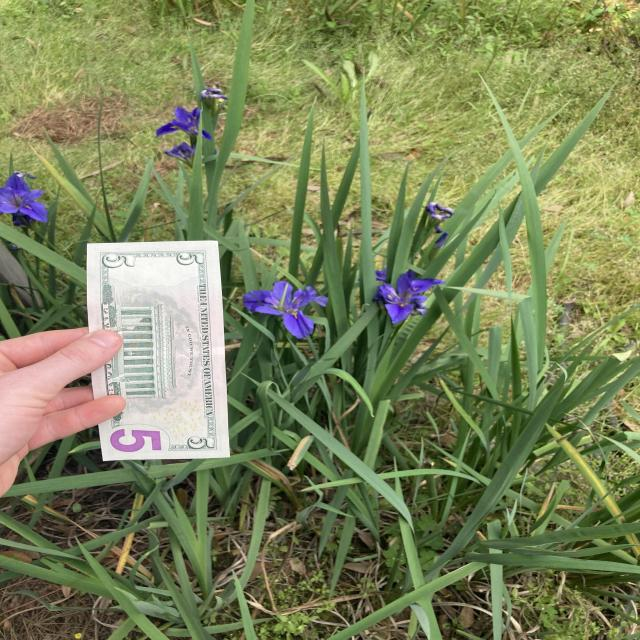five: (82, 234, 232, 467)
